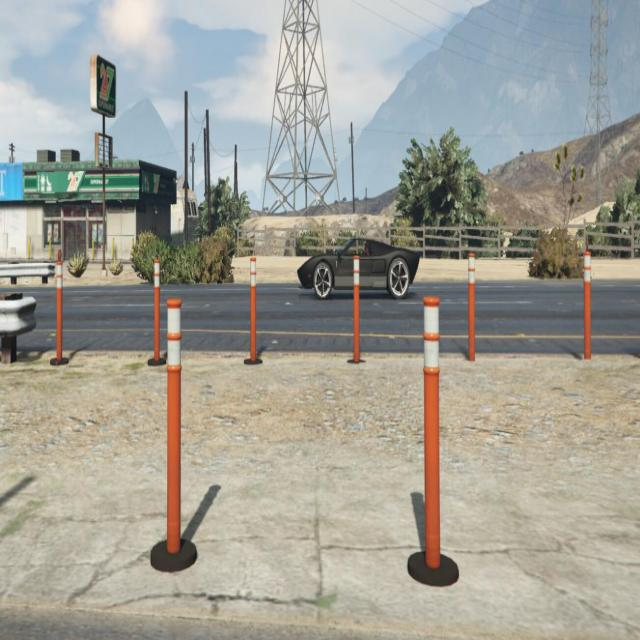car: (297, 233, 420, 299)
pole: (101, 114, 106, 267)
warning_column: (408, 294, 458, 585), (152, 298, 195, 570), (49, 248, 69, 362), (146, 258, 166, 366), (466, 250, 478, 362), (351, 253, 362, 361), (248, 253, 258, 361)
